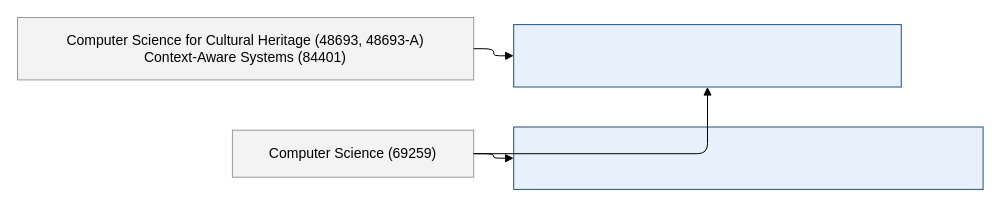
Image size: 1001x207. Some labels were removed from this diagram. Each missing label, with the centre of its shape:
"Geospatial Information Systems Analysis and Applications 3 ECTS" goes at (x=748, y=157).
"Geospatial Information Systems Fundamentals 3 ECTS" goes at (x=707, y=55).
